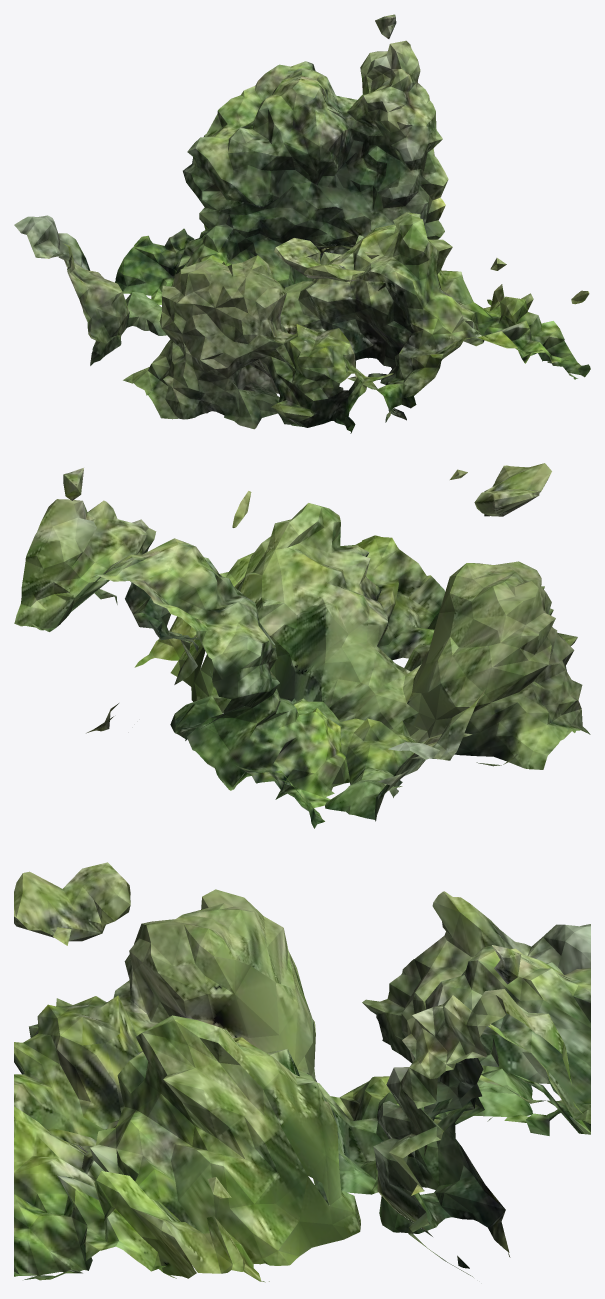
3 views of the same model, one above another, from view 1: azimuth 30°, elevation 25°; view 2: azimuth 150°, elevation 25°; view 3: azimuth 270°, elevation 25° (orthographic). The views are drawn at different scales.
Bounding box in the file's own units: 26.11 × 16.09 × 26.11.
Materials: 5 (5 with a texture image).
